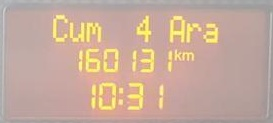0: (97, 80, 115, 110), (101, 46, 120, 73)
1: (154, 80, 167, 109), (86, 82, 97, 110), (126, 46, 137, 72), (73, 47, 84, 72), (162, 47, 172, 74)
3: (125, 80, 143, 111), (138, 46, 155, 74)
4: (133, 12, 152, 43)
6: (84, 46, 101, 73)
X: (49, 12, 68, 44), (167, 13, 185, 44), (201, 21, 220, 45), (66, 19, 84, 43), (185, 19, 201, 45), (84, 20, 101, 43), (116, 84, 125, 107), (181, 50, 195, 61), (173, 45, 181, 61)
